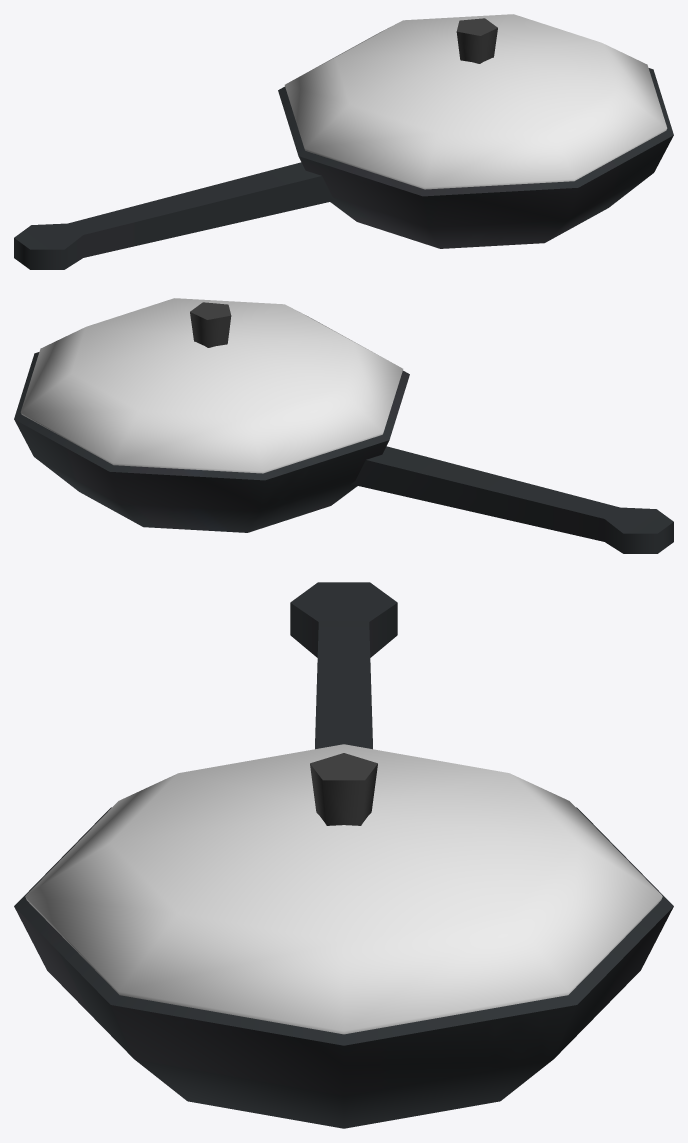
The picture shows the model from 3 angles, top to bottom: view 1: azimuth 30°, elevation 25°; view 2: azimuth 150°, elevation 25°; view 3: azimuth 270°, elevation 25°; orthographic projection. The views are drawn at different scales.
Visible parts, largest first — view 1: t001_Material008_0, Sarten001_Metal_04001_0, t001_Material007_0; view 2: t001_Material008_0, Sarten001_Metal_04001_0, t001_Material007_0; view 3: t001_Material008_0, Sarten001_Metal_04001_0, t001_Material007_0.
Part boxes in pixels (box(x1,y1,x2,y2)): t001_Material008_0: box(284, 14, 667, 189); Sarten001_Metal_04001_0: box(14, 68, 673, 269); t001_Material007_0: box(456, 18, 497, 63); t001_Material008_0: box(20, 298, 403, 473); Sarten001_Metal_04001_0: box(14, 352, 673, 553); t001_Material007_0: box(190, 302, 231, 347); t001_Material008_0: box(25, 744, 662, 1034); Sarten001_Metal_04001_0: box(14, 582, 673, 1128); t001_Material007_0: box(310, 753, 377, 825).
Size of the model in its own units: 0.6463 by 0.1623 by 0.3635.
3 materials, 1 textured.
